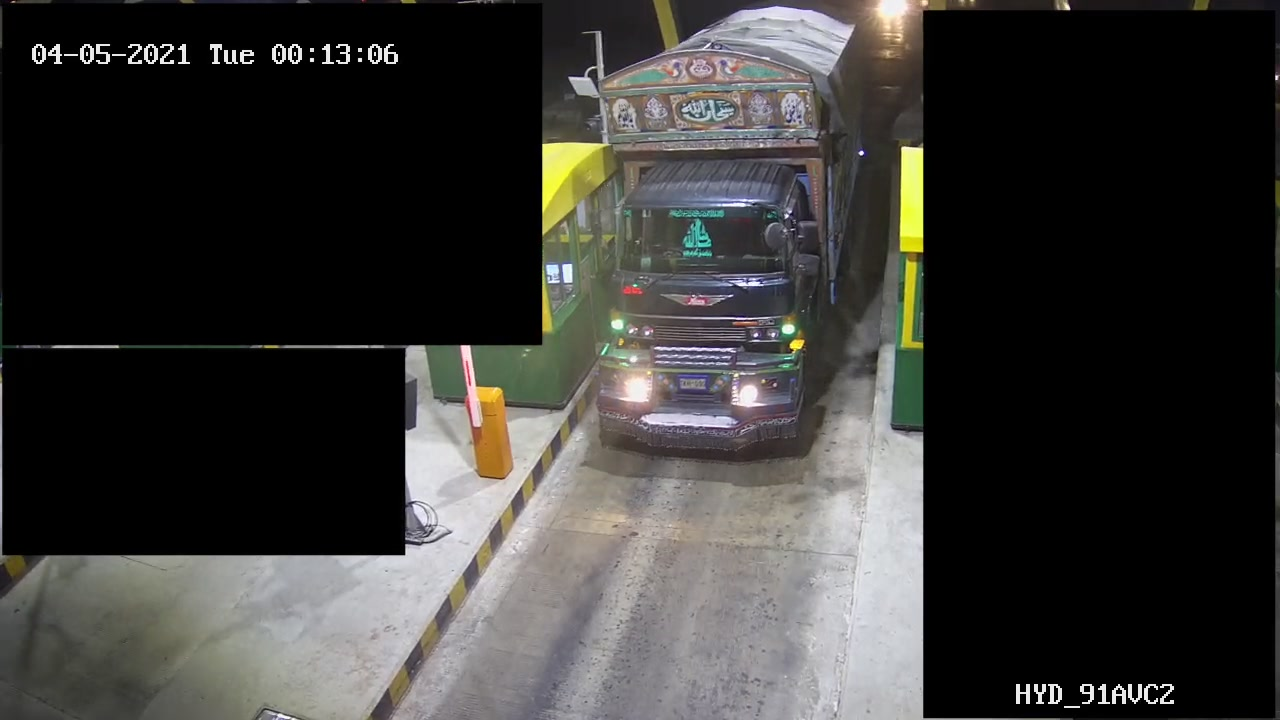F5: (578, 1, 876, 464)
